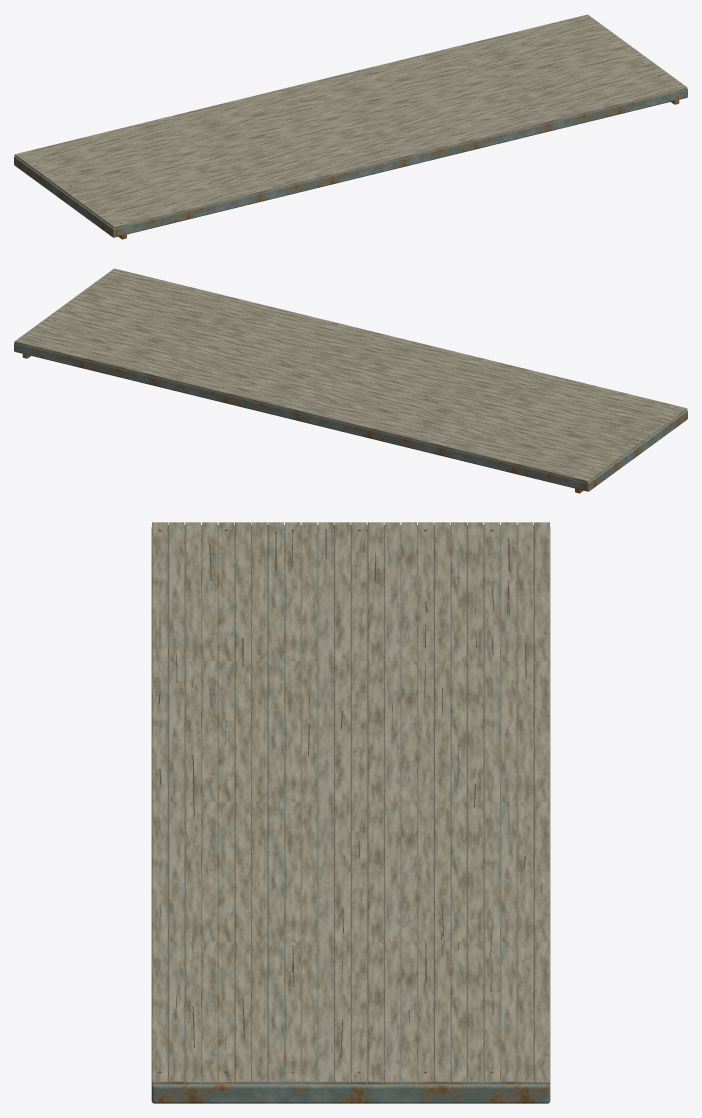
File: Pier_Head_20x6.glb
The picture shows the model from 3 angles, top to bottom: view 1: azimuth 30°, elevation 25°; view 2: azimuth 150°, elevation 25°; view 3: azimuth 270°, elevation 25°; orthographic projection. The views are drawn at different scales.
Visible parts, largest first — view 1: Pier_Head_20x6; view 2: Pier_Head_20x6; view 3: Pier_Head_20x6.
Part boxes in pixels (left/top/right/bottom): Pier_Head_20x6: left=14, top=14, right=687, bottom=239; Pier_Head_20x6: left=14, top=268, right=687, bottom=493; Pier_Head_20x6: left=151, top=522, right=550, bottom=1103.
Size of the model in its own units: 20 by 0.499 by 6.
4 materials, 3 textured.
